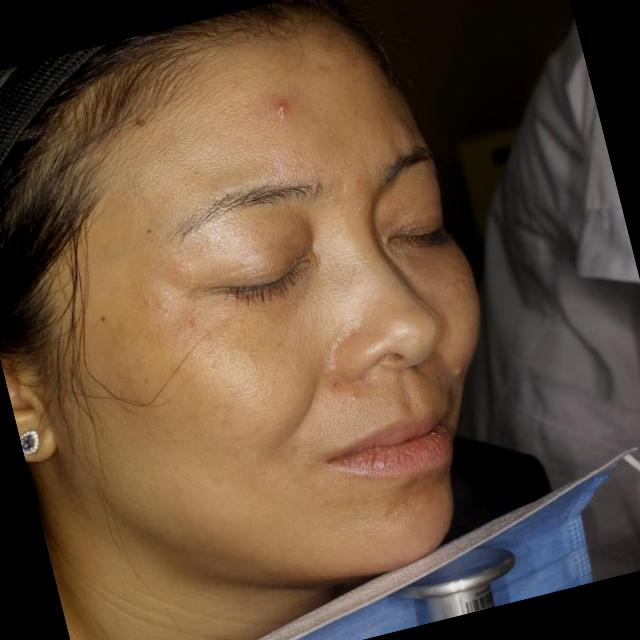acne: (265, 91, 300, 127)
